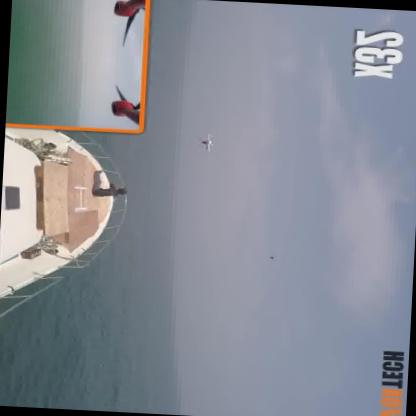drone: (193, 131, 218, 154)
